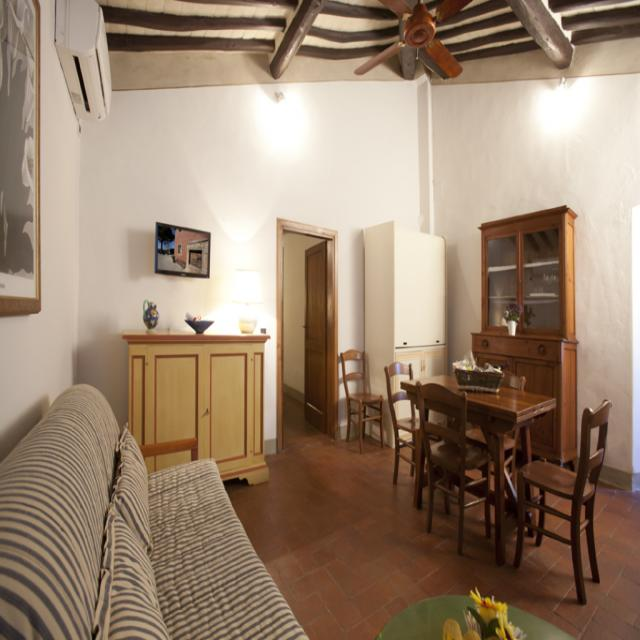Bulb: (354, 0, 473, 69)
